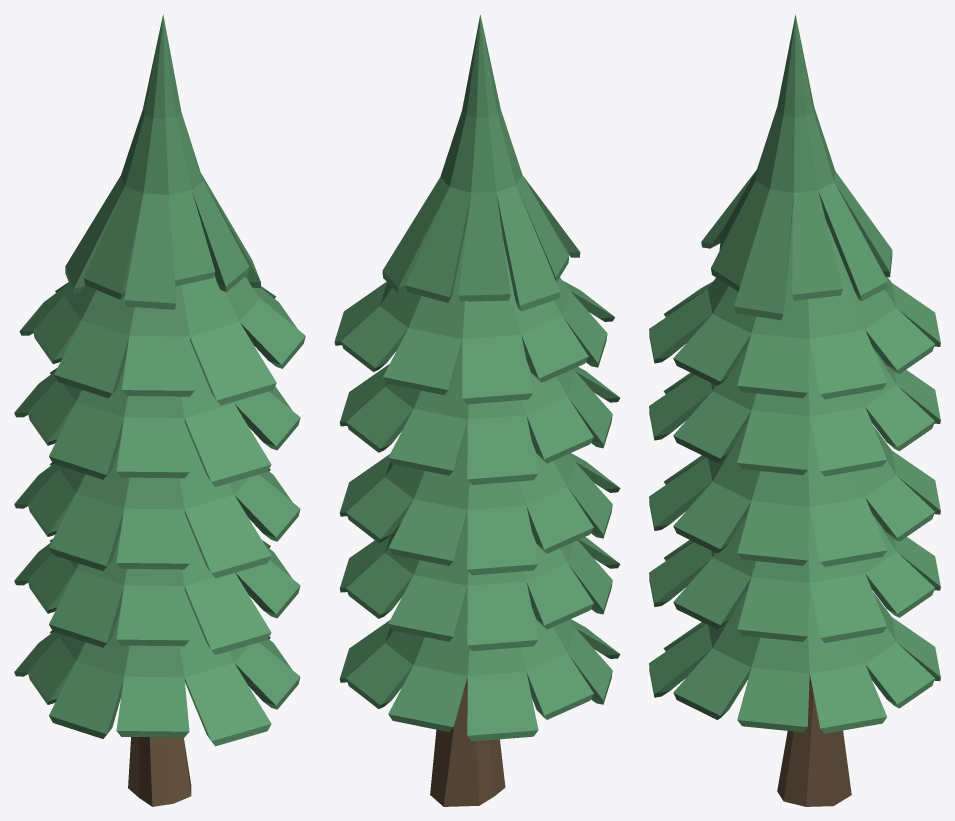
The model's file is Tree_Tall.fbx.
3 renders of one model, left to right at view 1: azimuth 30°, elevation 25°; view 2: azimuth 150°, elevation 25°; view 3: azimuth 270°, elevation 25°, orthographic.
Visible parts, largest first — view 1: polySurface1; view 2: polySurface1; view 3: polySurface1.
Part boxes in pixels (<box>): polySurface1: <box>14,14,305,806</box>; polySurface1: <box>334,15,620,806</box>; polySurface1: <box>649,14,940,806</box>.
Size of the model in its own units: 84.3 by 258 by 87.7.
